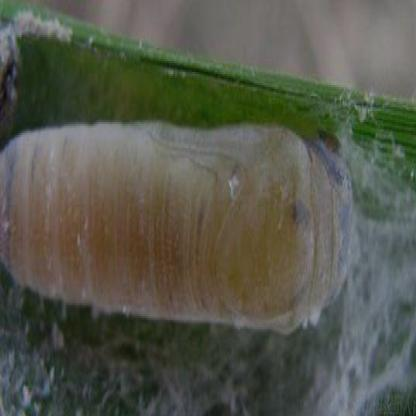leaf-folder: (28, 72, 354, 382)
